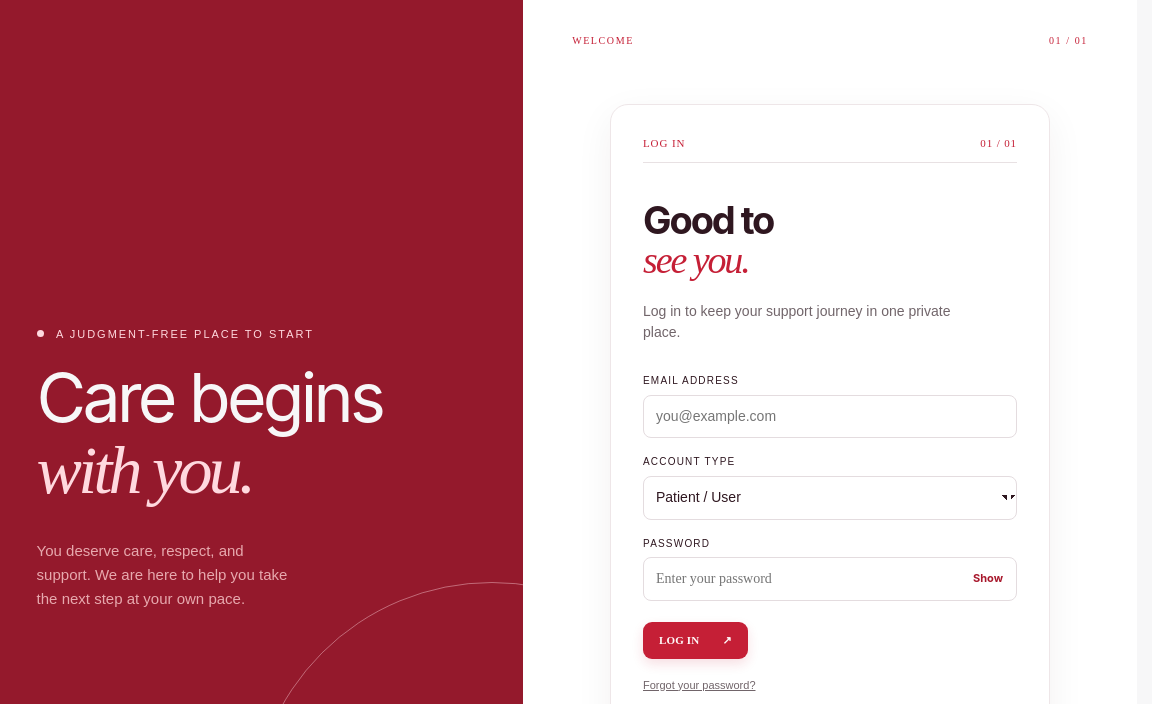
Test: health worker inbox shows assigned unread chats, marks messages read, and supports replies/status changes
This screenshot has width=1152, height=704.
Select "Health Worker" in the dropdown labelled "Account type" at (830, 498), box [643, 476, 1017, 520]
Type "evelyn.chat@risinghiv.org" into the field labelled "Email Address" at (830, 417), box [643, 395, 1017, 438]
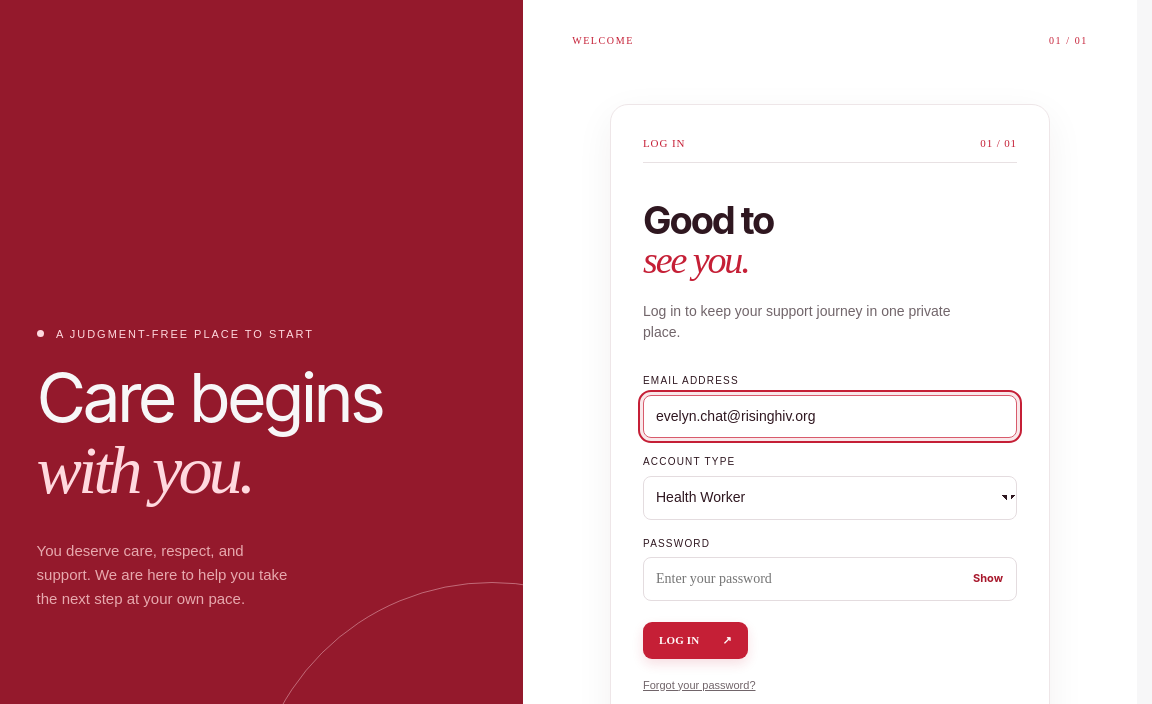
Type "password" into the password field labelled "Password" at (830, 579), box [643, 557, 1017, 601]
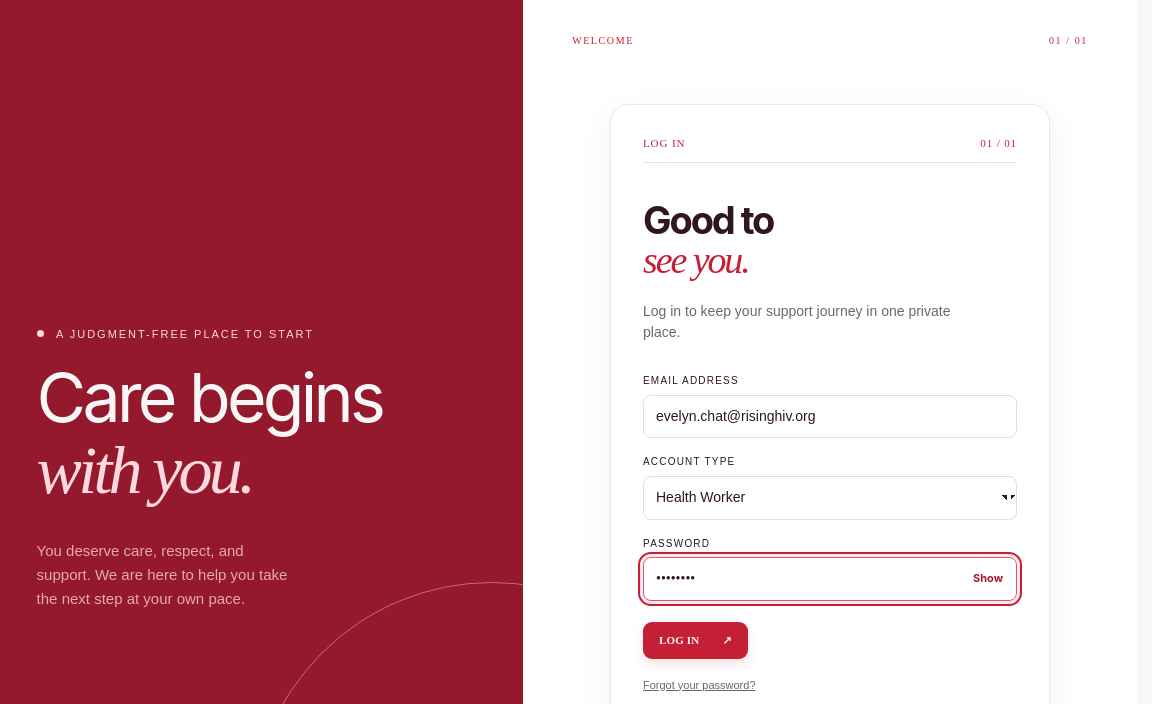
Click the button "Log in ↗" at (695, 640), box [643, 622, 748, 659]
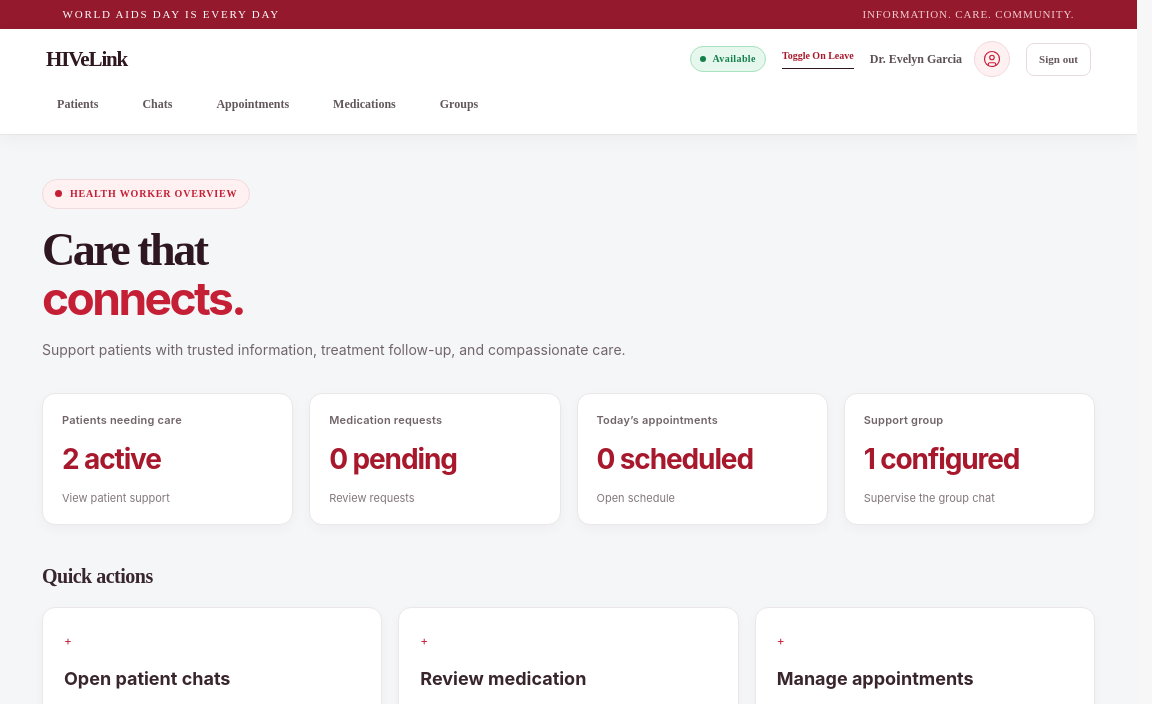
Click the button "Chats" at (157, 104), box [131, 87, 183, 122]
(page scrolled)
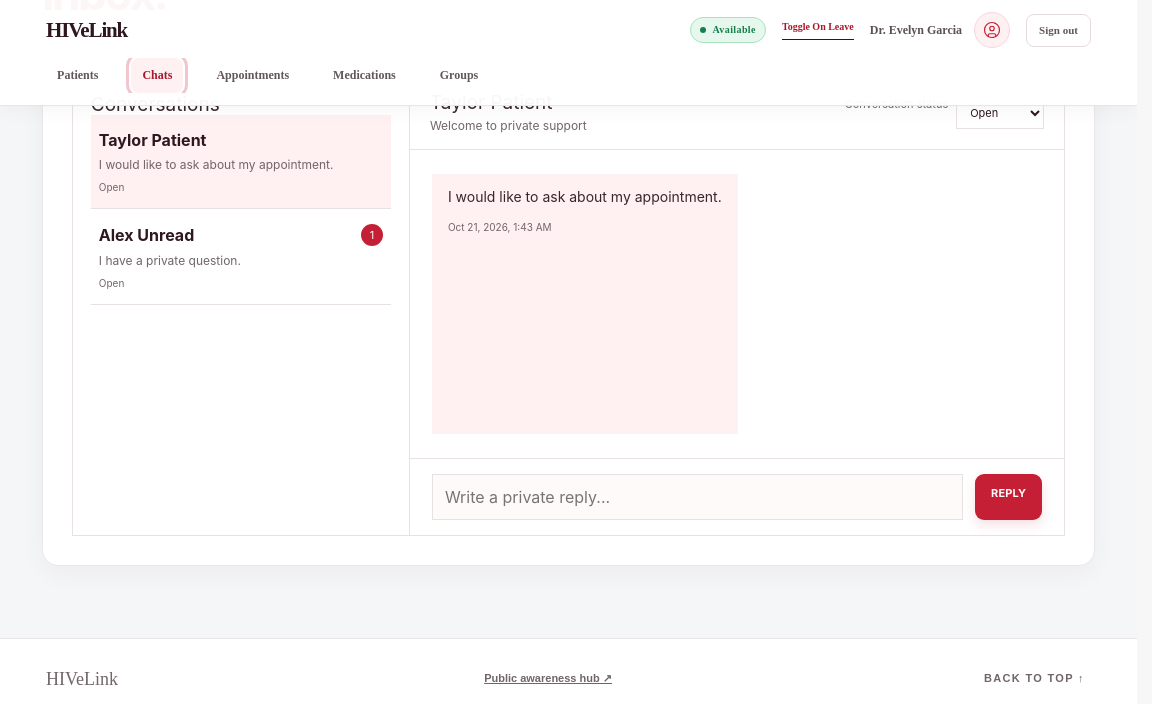
Now the text "Taylor Patient" is shown, box [99, 130, 206, 150]
Now the text "Alex Unread" is shown, box [99, 225, 194, 245]
Now the text "1" is shown, box [361, 224, 383, 246]
Type "I can help with that." into the field named "reply to patient" at (698, 497), box [432, 474, 963, 520]
Click the button "Reply" at (1009, 497), box [975, 474, 1042, 520]
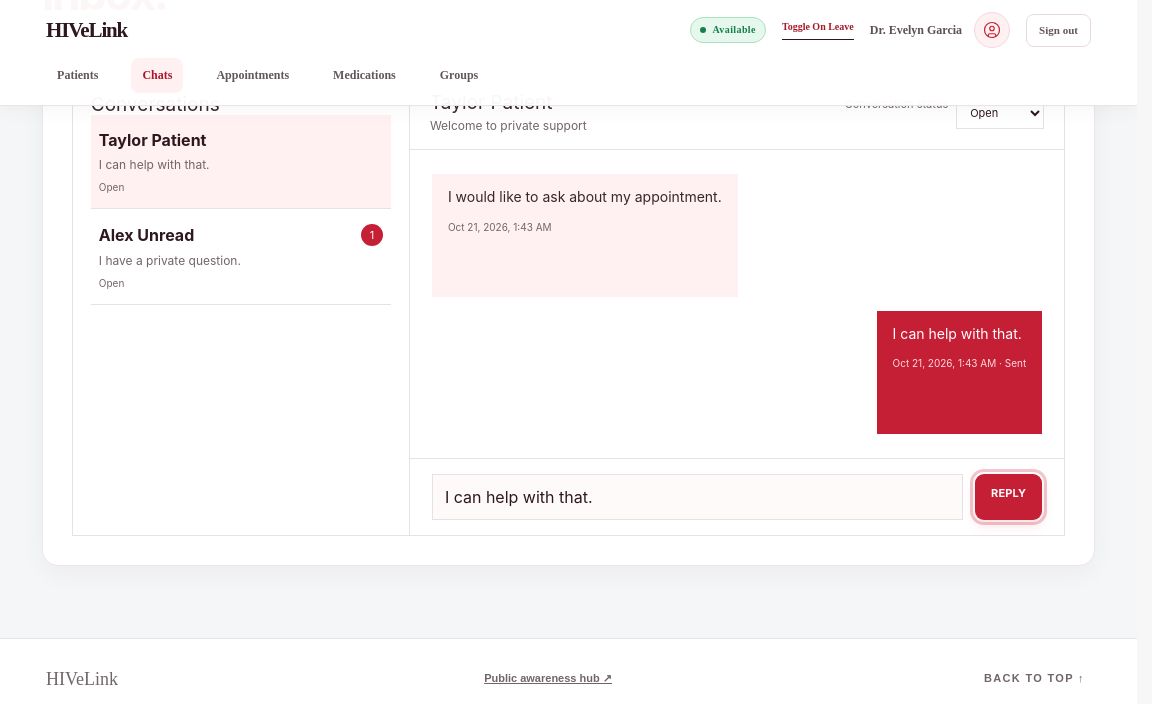
Select "Resolved" in the dropdown labelled "Conversation status" at (1000, 113), box [956, 97, 1044, 129]
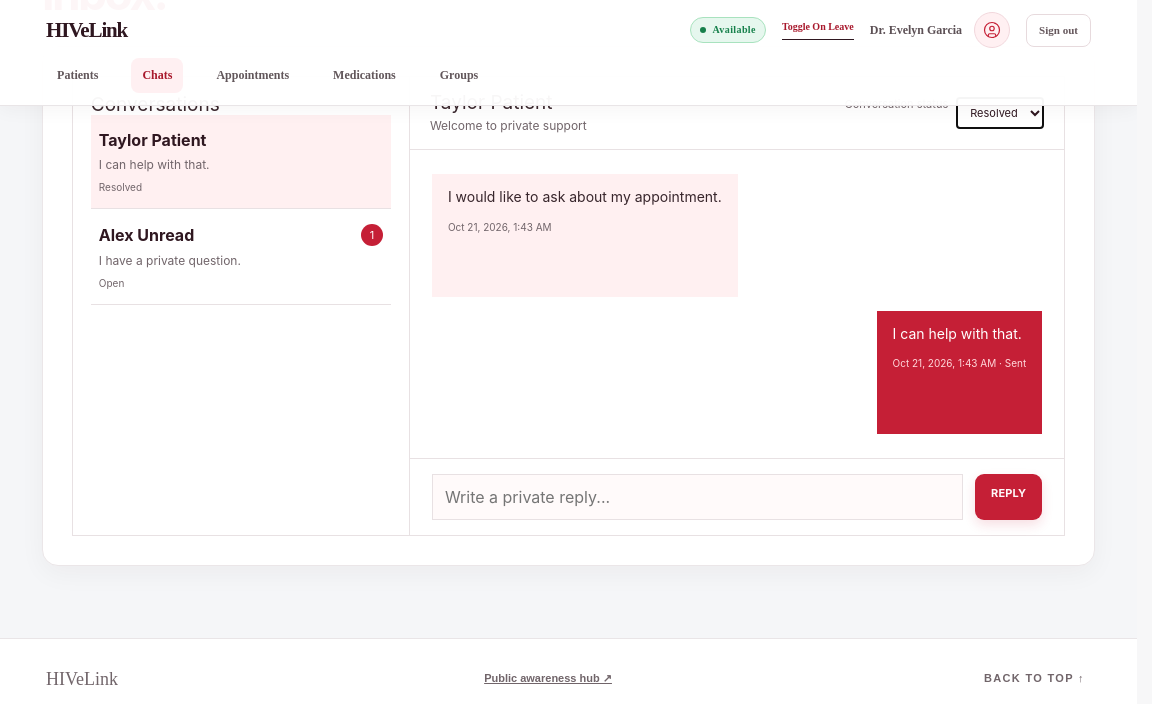
Now the text "I can help with that." below "Conversations" is shown, box [99, 157, 210, 172]
Now the text "Resolved" is shown, box [99, 181, 142, 193]
